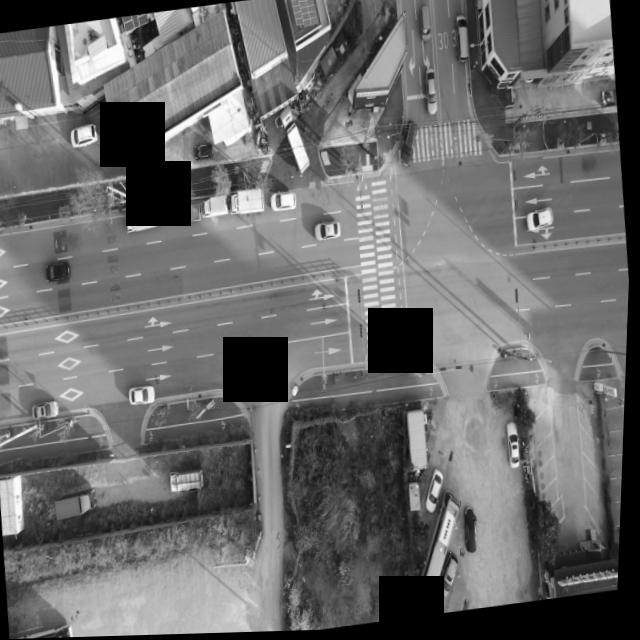car: (436, 553, 465, 603), (397, 116, 421, 171), (424, 468, 450, 516), (506, 422, 525, 472), (423, 67, 440, 120), (464, 506, 483, 553), (453, 17, 471, 64), (70, 121, 100, 148), (527, 209, 556, 234), (45, 260, 73, 284), (272, 191, 299, 215), (32, 400, 61, 421), (191, 139, 216, 161), (316, 222, 342, 243), (131, 386, 158, 406), (418, 6, 431, 43)
large_bus: (410, 494, 472, 611), (12, 621, 81, 639)
medium_truck: (276, 106, 315, 177), (55, 482, 102, 521), (125, 201, 166, 235), (227, 187, 266, 219)
small_truck: (171, 465, 209, 497), (200, 194, 229, 219), (173, 202, 202, 225)
